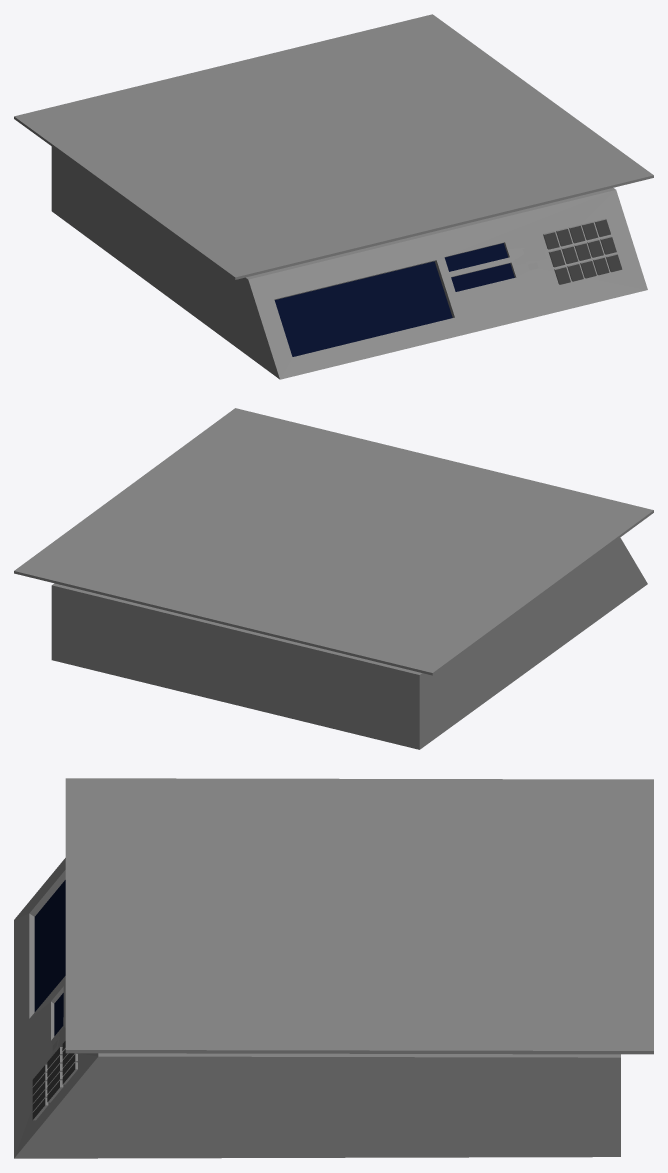
The model's file is timbangandigital.fbx.
3 views of the same model, one above another, from view 1: azimuth 30°, elevation 25°; view 2: azimuth 150°, elevation 25°; view 3: azimuth 270°, elevation 25° (orthographic). The views are drawn at different scales.
Parts seen in each view (by area): view 1: Cube; view 2: Cube; view 3: Cube.
Part boxes in pixels (bbox=[...]): Cube: bbox=[14, 14, 653, 379]; Cube: bbox=[14, 408, 653, 749]; Cube: bbox=[14, 778, 653, 1158].
Bounding box in the file's own units: 82.34 × 17.72 × 82.
